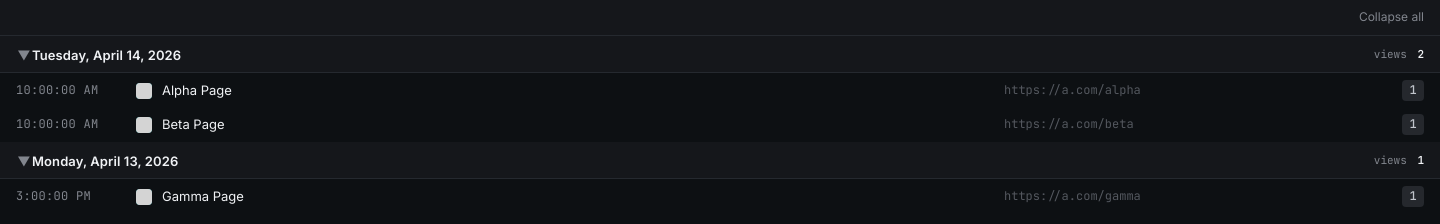
HistoryList — collapse per day › hides a day's rows when its chevron is clicked
Step 1. Click the button named "Collapse group" → (24, 55), box left=15, top=47, right=33, bottom=63
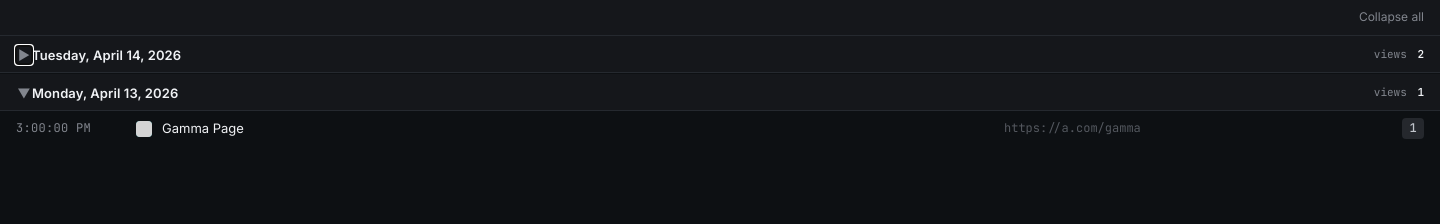
Now the link "Alpha Page" is gone
Now the link "Beta Page" is gone
Now the text "Gamma Page" is shown, box left=162, top=119, right=244, bottom=138
